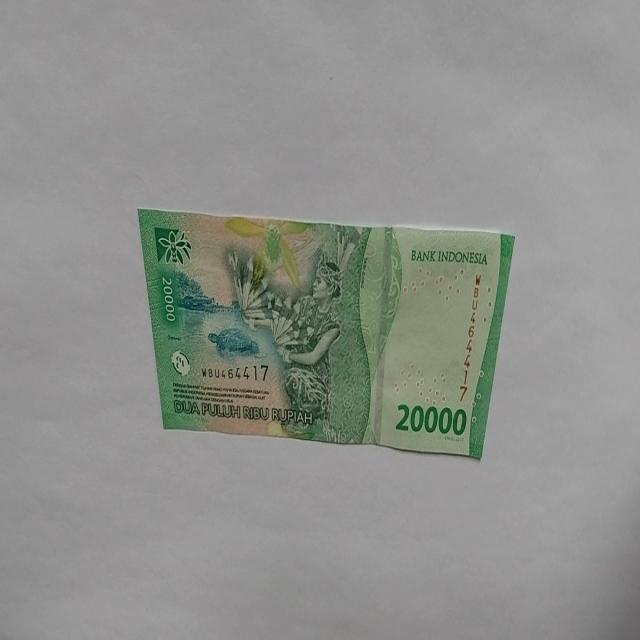dua puluh ribu rupiah: (137, 207, 516, 460)
